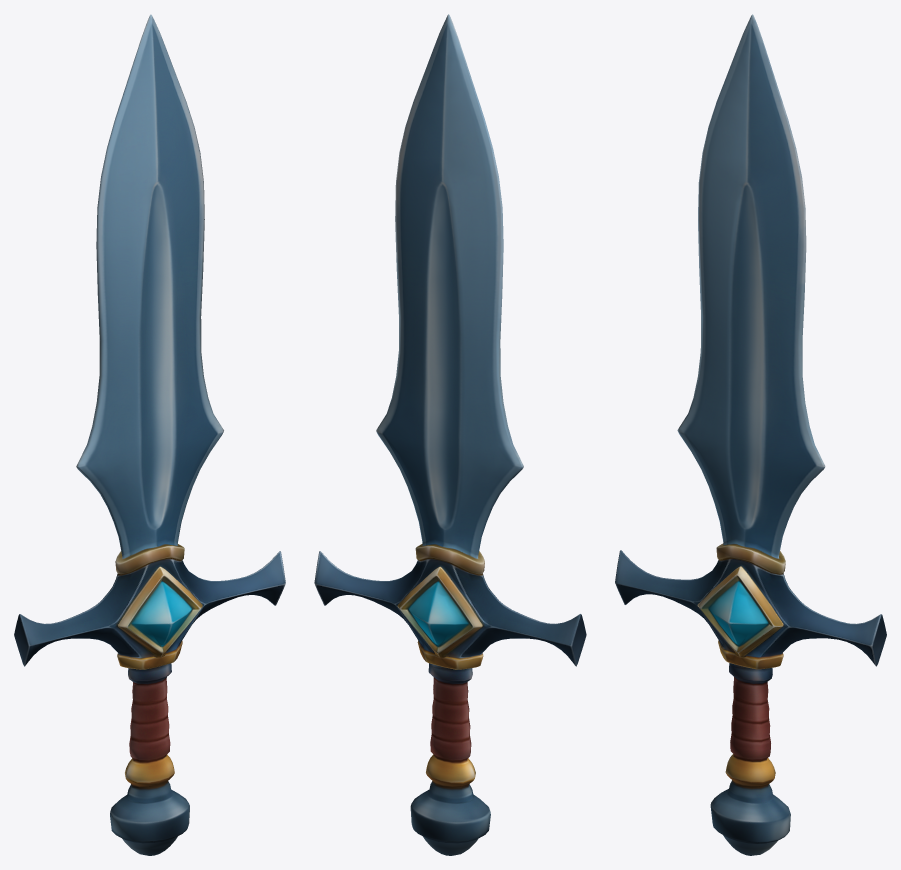
File: Sword.FBX
3 views of the same model, side by side, from view 1: azimuth 30°, elevation 25°; view 2: azimuth 150°, elevation 25°; view 3: azimuth 330°, elevation 25° (orthographic).
Parts seen in each view (by area): view 1: Sword; view 2: Sword; view 3: Sword.
Boxes of the visible parts, left/top/right/bottom form: Sword: left=14, top=14, right=285, bottom=855; Sword: left=314, top=14, right=586, bottom=855; Sword: left=615, top=14, right=886, bottom=855.
Bounding box in the file's own units: 37.23 × 10.86 × 114.
Materials: 1 (1 with a texture image).
